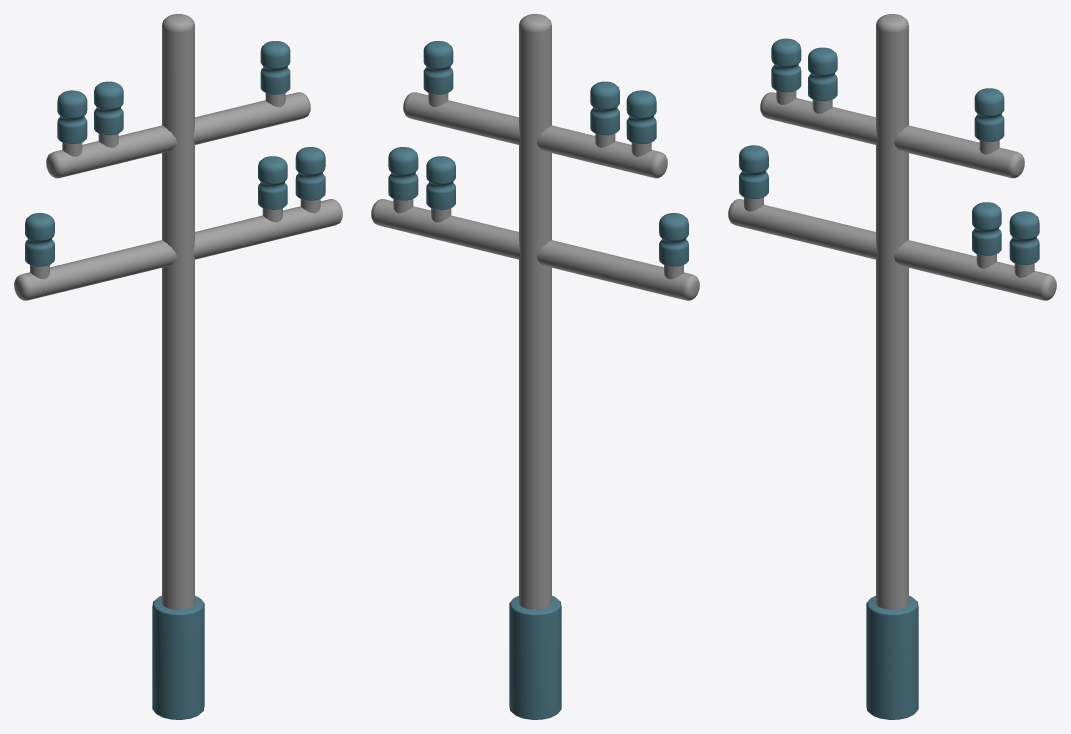
Rendered from City_16_Antenna_1.glb.
The picture shows the model from 3 angles, left to right: view 1: azimuth 30°, elevation 25°; view 2: azimuth 150°, elevation 25°; view 3: azimuth 330°, elevation 25°; orthographic projection.
Visible parts, largest first — view 1: City_16_Antenna_1; view 2: City_16_Antenna_1; view 3: City_16_Antenna_1.
Boxes of the visible parts, x1=… form: City_16_Antenna_1: x1=14, y1=14, x2=342, y2=719; City_16_Antenna_1: x1=371, y1=14, x2=699, y2=719; City_16_Antenna_1: x1=728, y1=14, x2=1056, y2=719.
Bounding box in the file's own units: 1.59 × 3.27 × 0.2253.
Materials: 1 (1 with a texture image).
